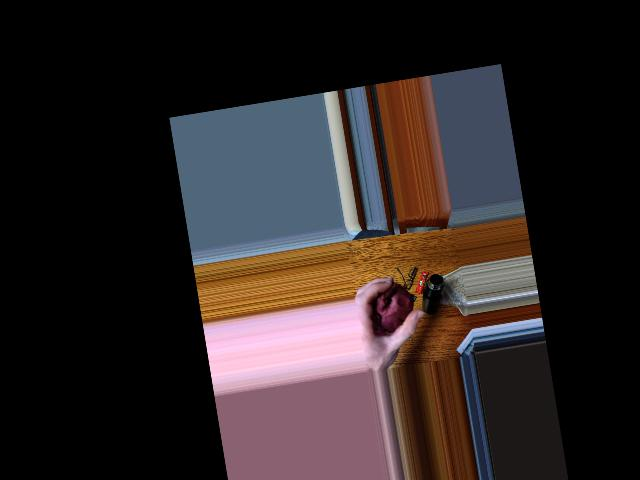onion: (369, 289, 408, 329)
